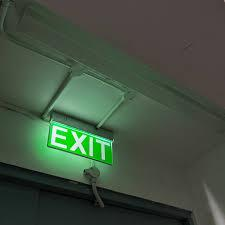lit_exit_sign: (49, 120, 112, 164)
